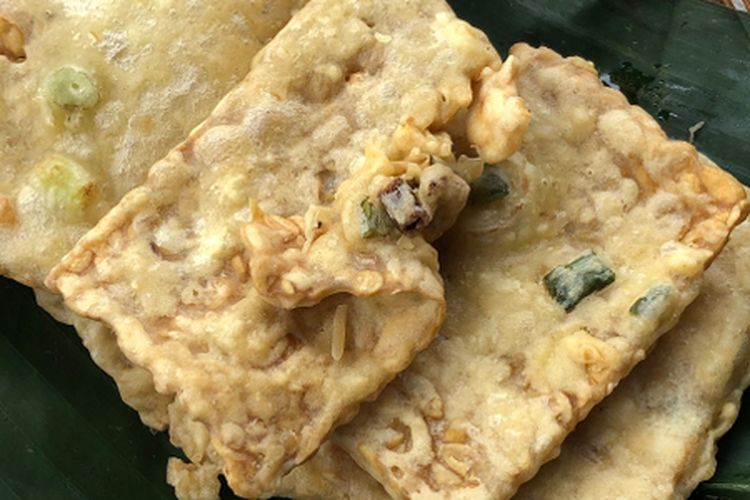Tempe: (80, 12, 512, 436), (329, 97, 731, 462)
